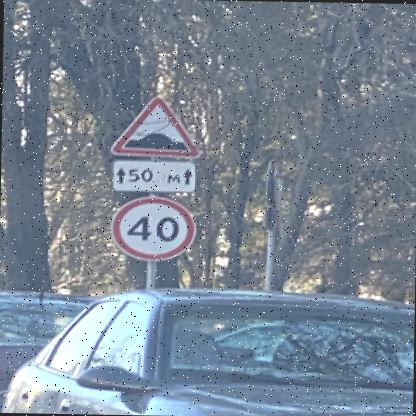speedlimit: (108, 194, 192, 260)
